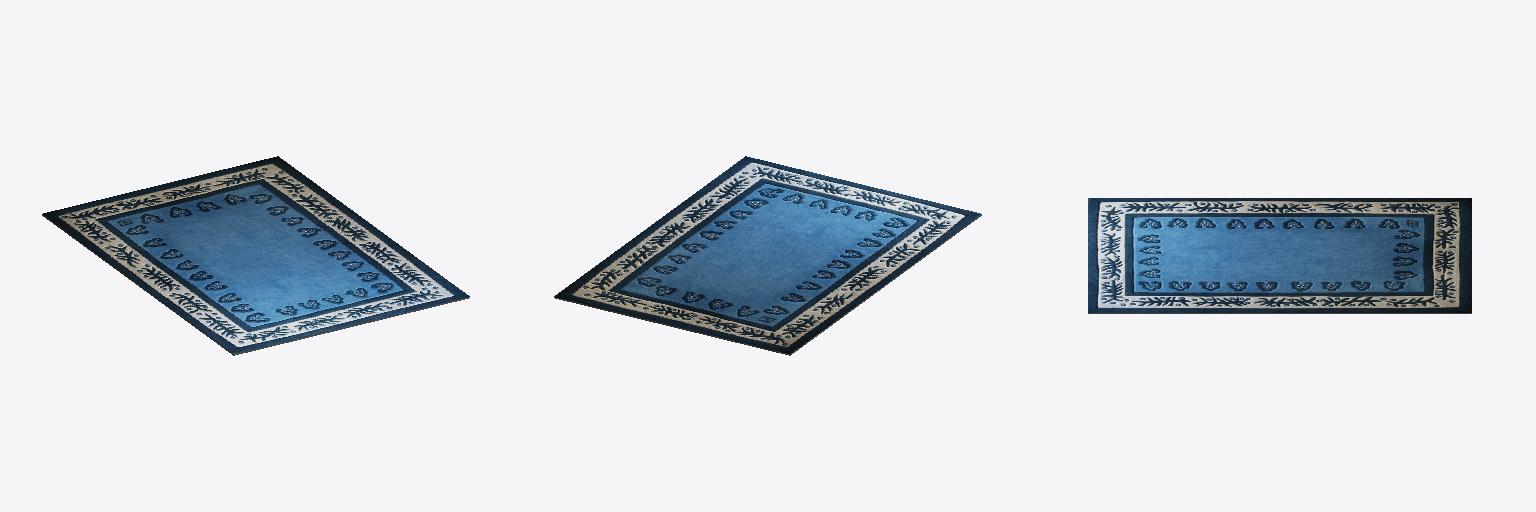
The picture shows the model from 3 angles: view 1: azimuth 30°, elevation 25°; view 2: azimuth 150°, elevation 25°; view 3: azimuth 270°, elevation 25°; orthographic projection.
Visible parts, largest first — view 1: carpet, carpetBase; view 2: carpet, carpetBase; view 3: carpet.
Boxes of the visible parts, x1=… form: carpet: x1=43, y1=156, x2=469, y2=353; carpetBase: x1=42, y1=214, x2=469, y2=355; carpet: x1=554, y1=156, x2=980, y2=353; carpetBase: x1=554, y1=214, x2=981, y2=355; carpet: x1=1088, y1=198, x2=1471, y2=312.
Size of the model in its own units: 0.7111 by 0.0044 by 1.
Materials: 2 (1 with a texture image).